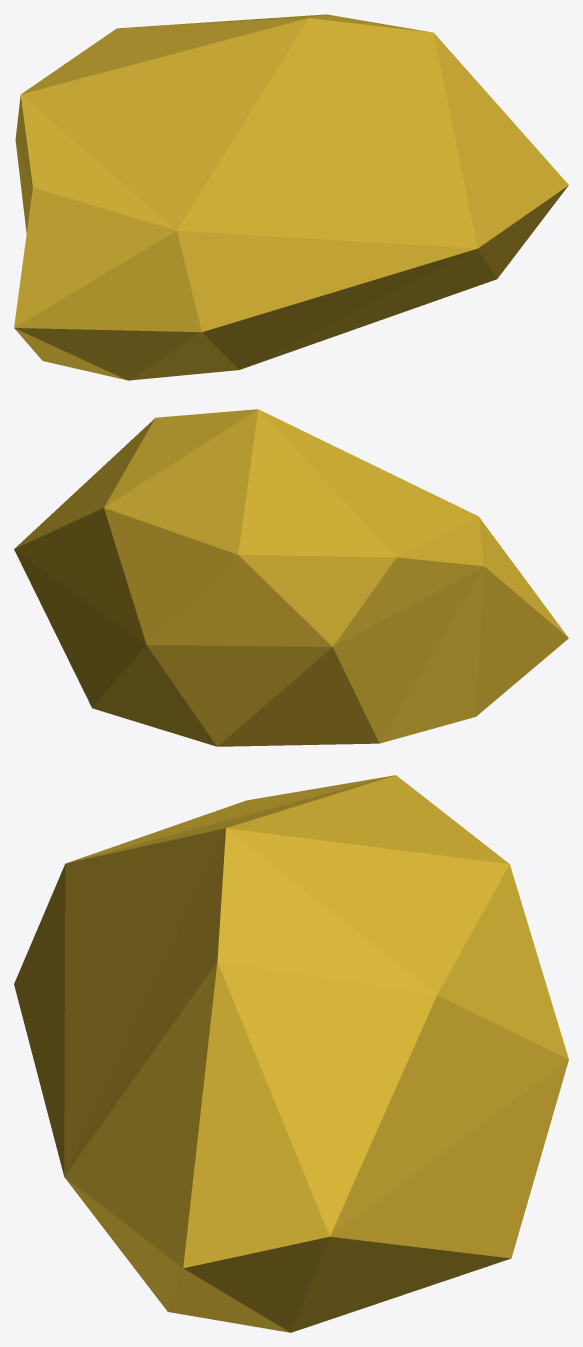
Rendered from co_Bush06_B.fbx.
3 renders of one model, top to bottom at view 1: azimuth 30°, elevation 25°; view 2: azimuth 150°, elevation 25°; view 3: azimuth 270°, elevation 25°, orthographic. The views are drawn at different scales.
Parts seen in each view (by area): view 1: Bush06_B; view 2: Bush06_B; view 3: Bush06_B.
Part boxes in pixels (x1=…): Bush06_B: x1=14, y1=14, x2=568, y2=380; Bush06_B: x1=14, y1=409, x2=568, y2=746; Bush06_B: x1=14, y1=775, x2=568, y2=1332.
Bounding box in the file's own units: 3.37 × 1.61 × 2.15.
